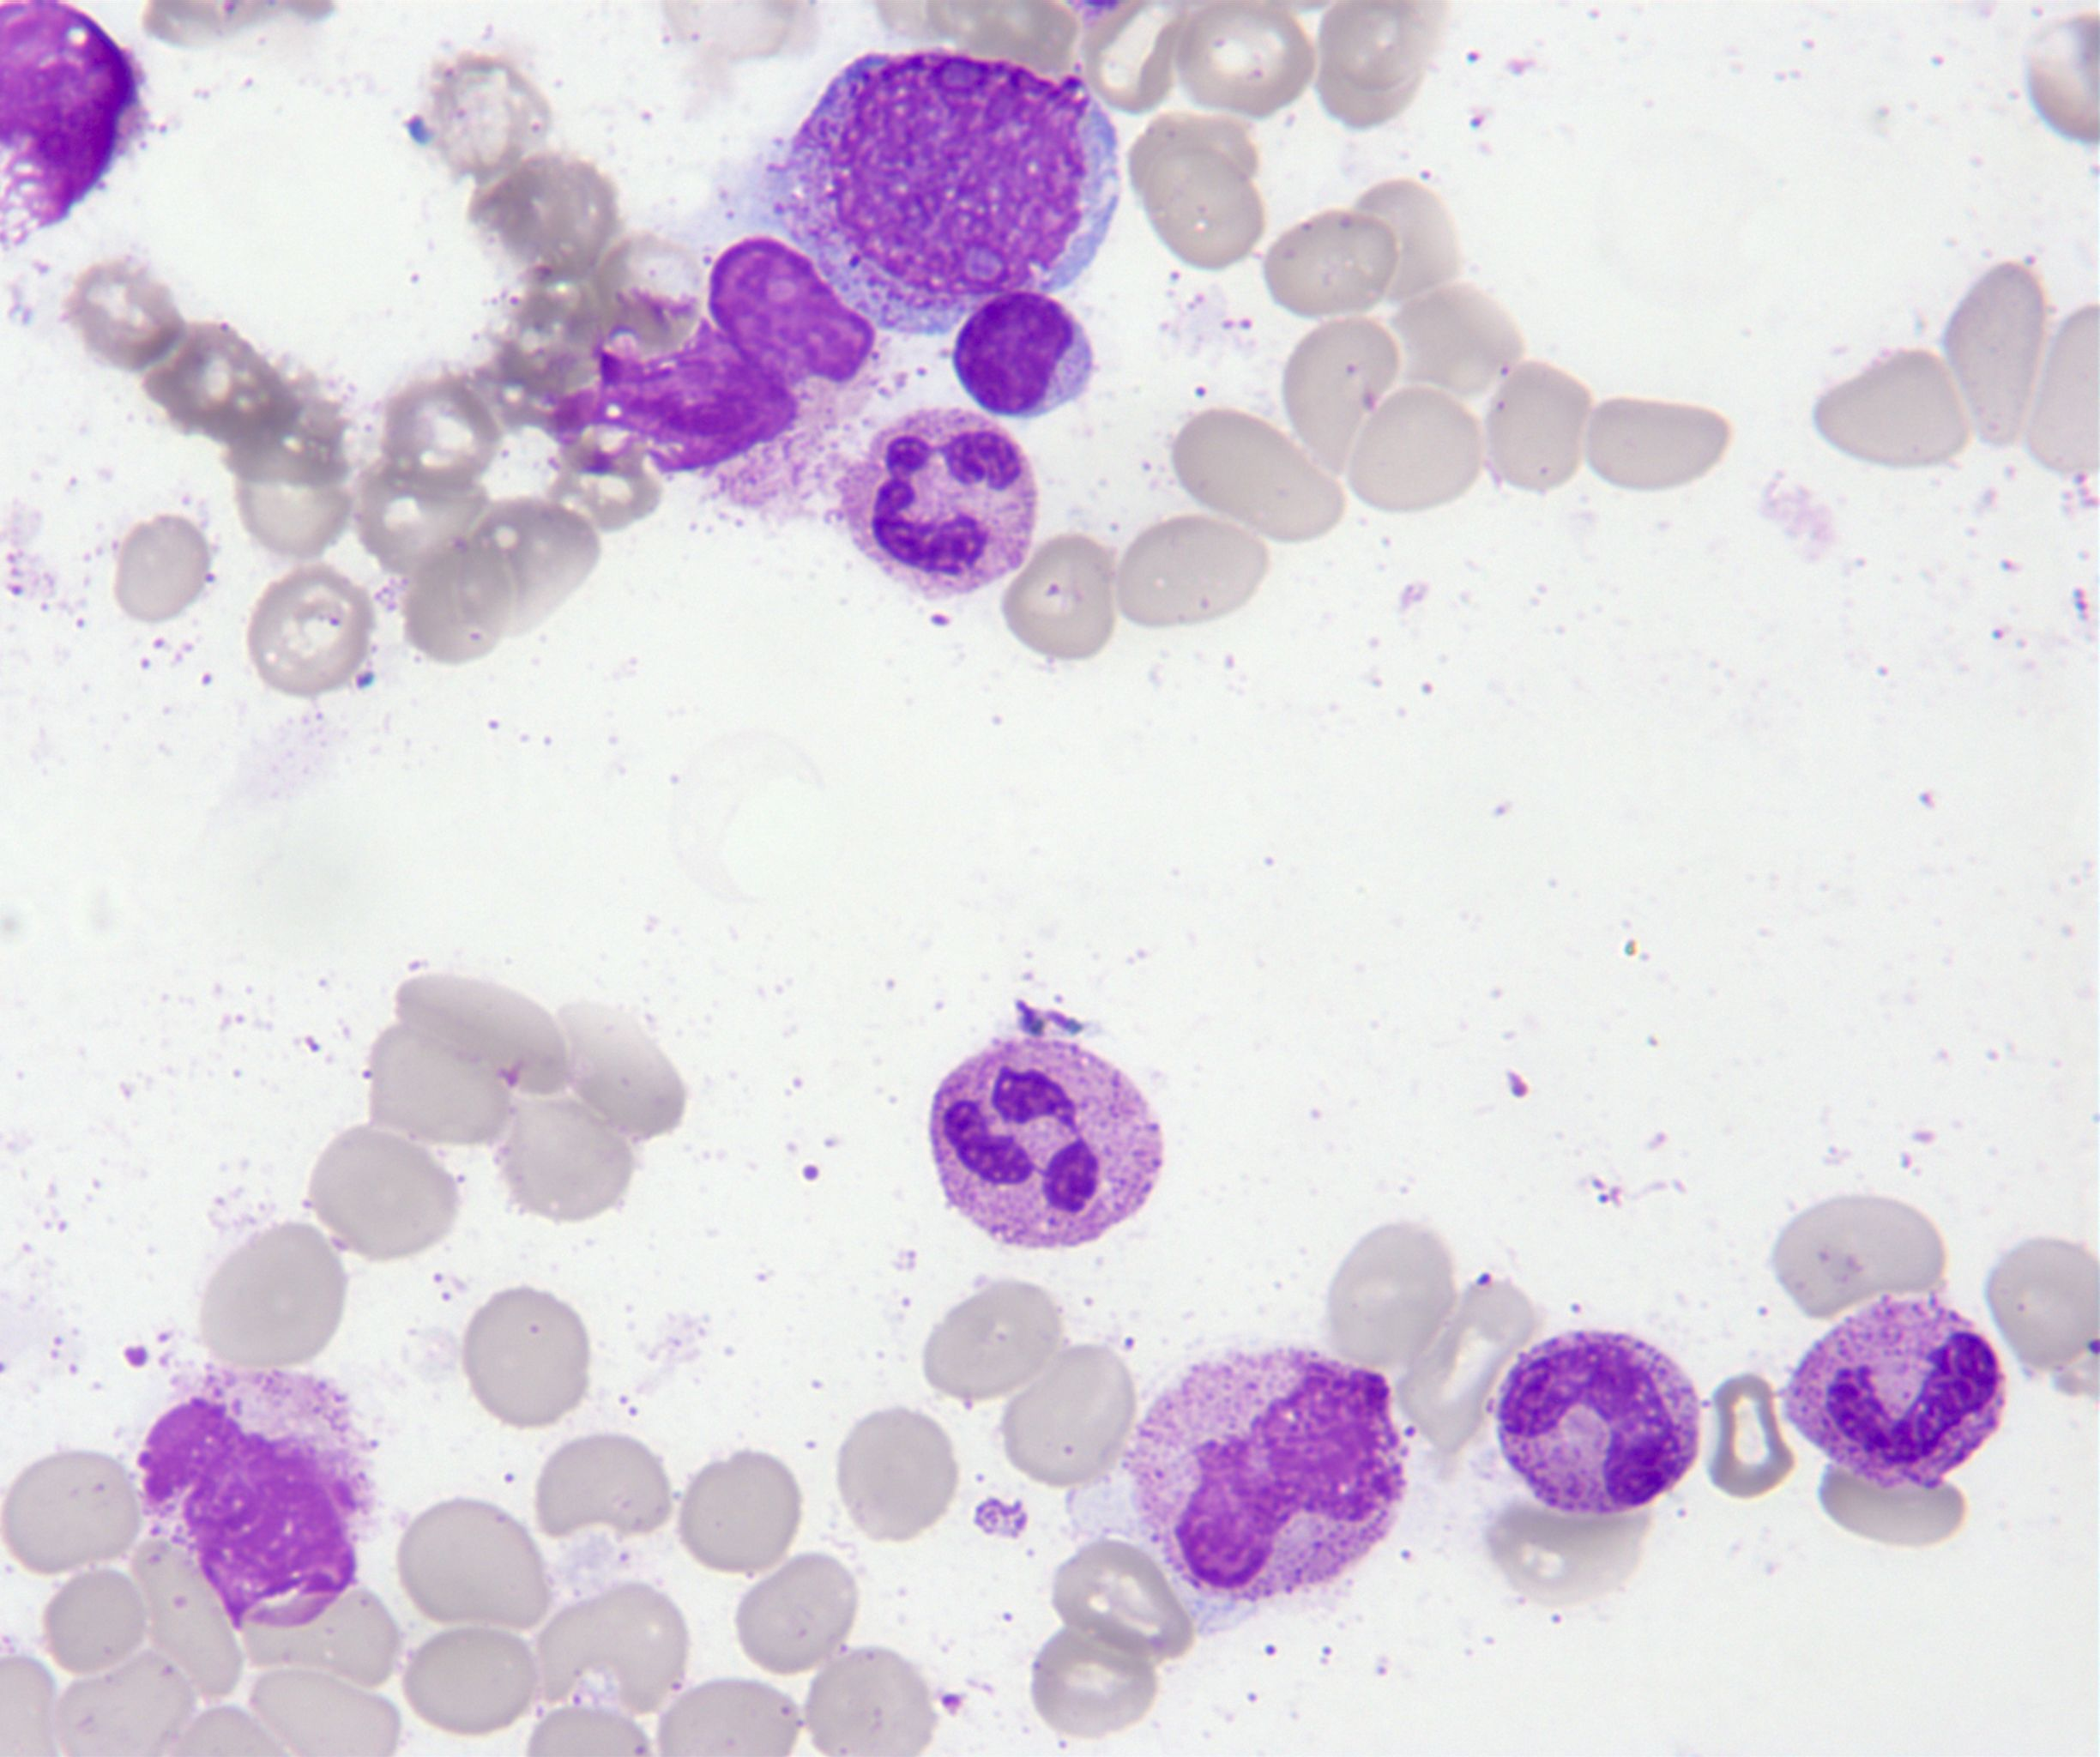3: (1122, 1338, 1413, 1617)
32: (945, 290, 1104, 422)
4: (1481, 1323, 1708, 1527)
5: (1774, 1282, 2011, 1499)
6: (926, 1031, 1167, 1258), (828, 405, 1047, 607)
x: (753, 37, 1127, 344), (124, 1361, 384, 1640)
